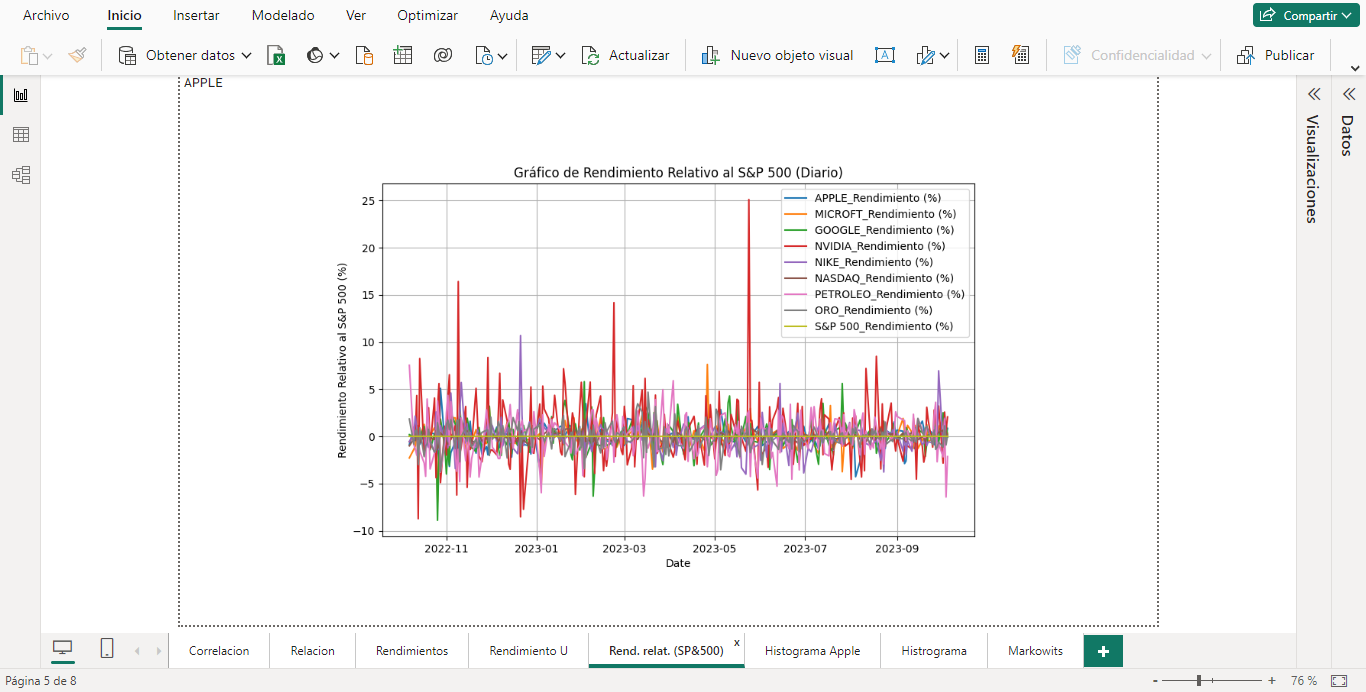

The page's visual inventory and layout, read from the dashboard file:
{"tool":"powerbi","page":{"name":"Rend. relat. (SP&500)","canvas":[1280,720],"ordinal":4},"visuals":[{"type":"pythonVisual","fields":{"Values":["Hoja1.APPLE"]},"box":[0,0,1279.5,720],"z":0}]}

Visuals, with their boxes on the page's 1280x720 design canvas (x1, y1, x2, y2). These are canvas units, not pixel positions in the 1366x692 screenshot, which may show the page scaled, cropped or inside an application window:
pythonVisual - Hoja1.APPLE: {"left": 0, "top": 0, "right": 1280, "bottom": 720}
